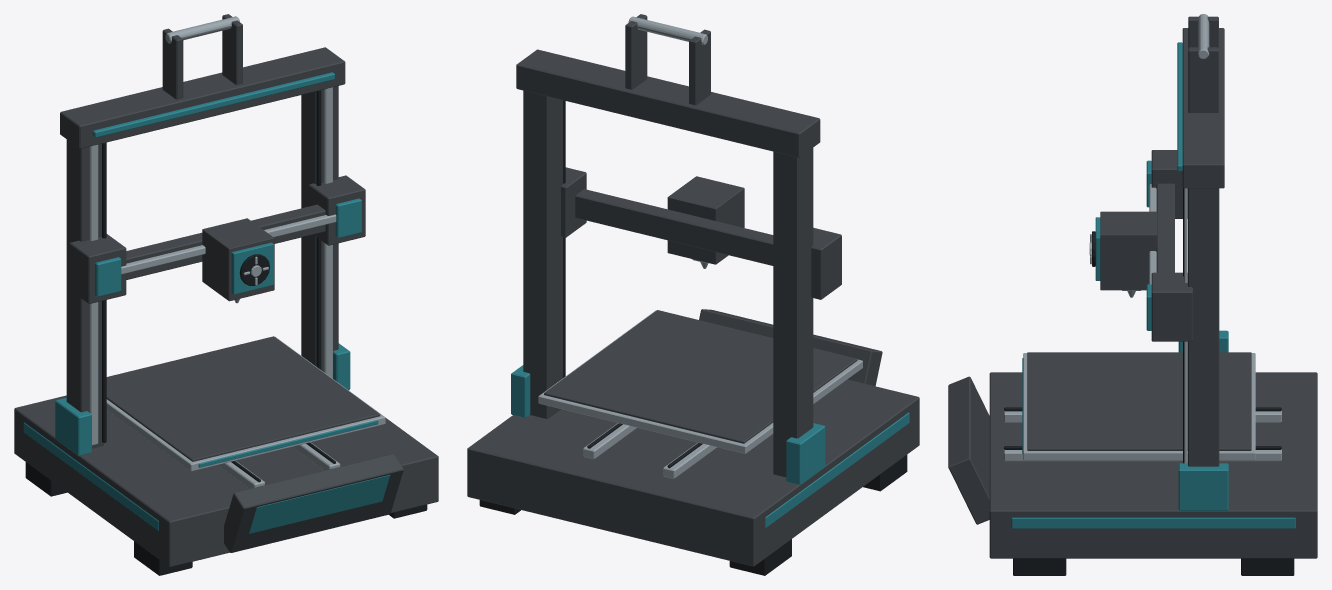
Rendered from Printer_Symmetric.fbx.
3 renders of one model, left to right at view 1: azimuth 30°, elevation 25°; view 2: azimuth 150°, elevation 25°; view 3: azimuth 270°, elevation 25°, orthographic. The views are drawn at different scales.
Visible parts, largest first — view 1: Structure, Base, Rails, Head; view 2: Structure, Base, Rails, Head; view 3: Structure, Base, Rails, Head.
Part boxes in pixels (<box>): Structure: <box>14,14,438,575</box>; Base: <box>106,336,385,471</box>; Rails: <box>69,175,365,303</box>; Head: <box>202,218,274,303</box>; Structure: <box>467,14,919,575</box>; Base: <box>538,310,862,453</box>; Rails: <box>561,167,841,299</box>; Head: <box>667,176,744,268</box>; Structure: <box>948,14,1317,575</box>; Base: <box>1022,352,1255,460</box>; Rails: <box>1146,150,1192,341</box>; Head: <box>1089,211,1157,297</box>.
Size of the model in its own units: 47.3 by 73.66 by 51.81.
